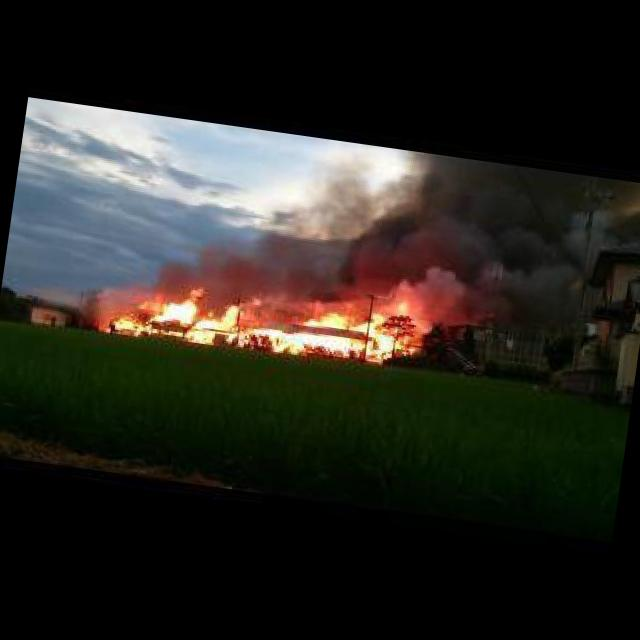Fire: (92, 253, 431, 374)
Smoke: (168, 117, 640, 335)
